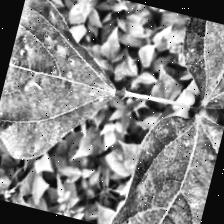Bean Rust: (0, 0, 135, 179), (105, 102, 224, 224), (167, 15, 224, 109)
